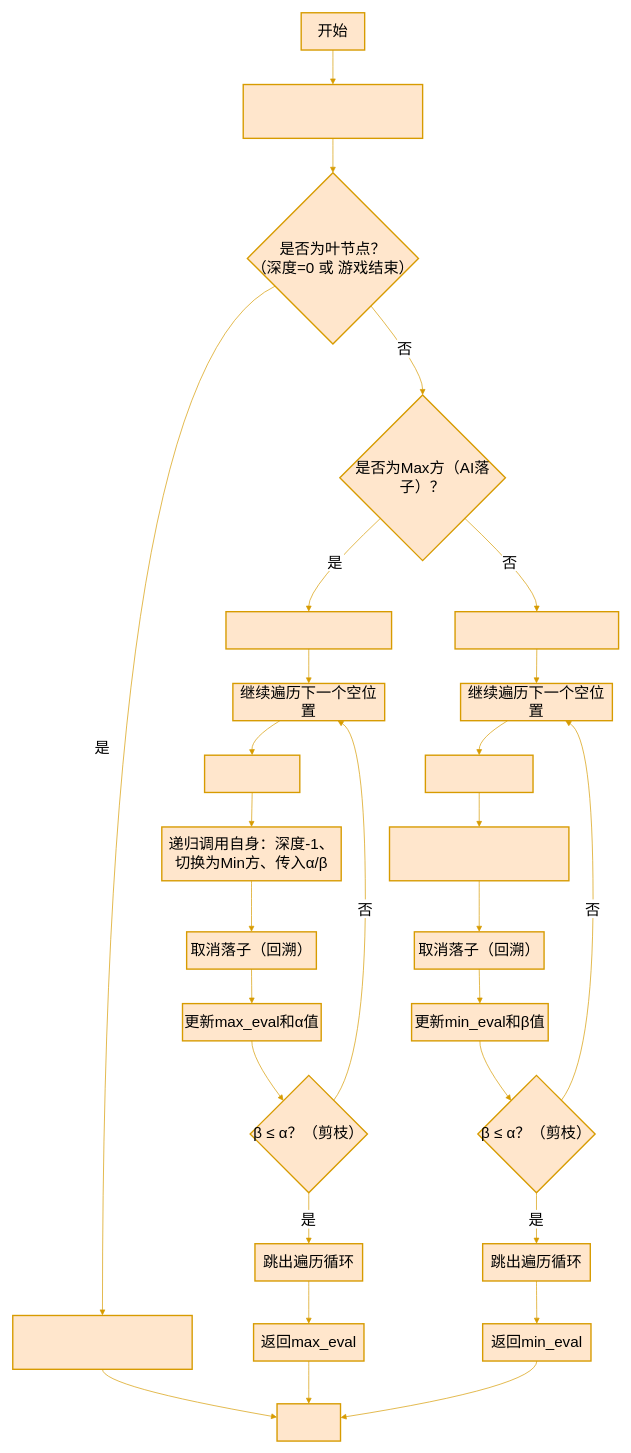
This 631x1453 diagram has some shape labels left out. The shapes that lost their labels are listed below. From the top down, each one's centre as x and y in pixels, then its label:
At (332,111): "输入：棋盘、搜索深度、α/β、是否Max方（AI）".
At (308,630): "初始化max_eval为极小值".
At (536,630): "初始化min_eval为极大值".
At (252,773): "模拟AI落子".
At (478,773): "模拟玩家落子".
At (478,853): "递归调用自身：深度-1、切换为Max方、传入α/β".
At (102,1342): "调用棋盘局势评分函数，返回评分".
At (308,1422): "结束".
